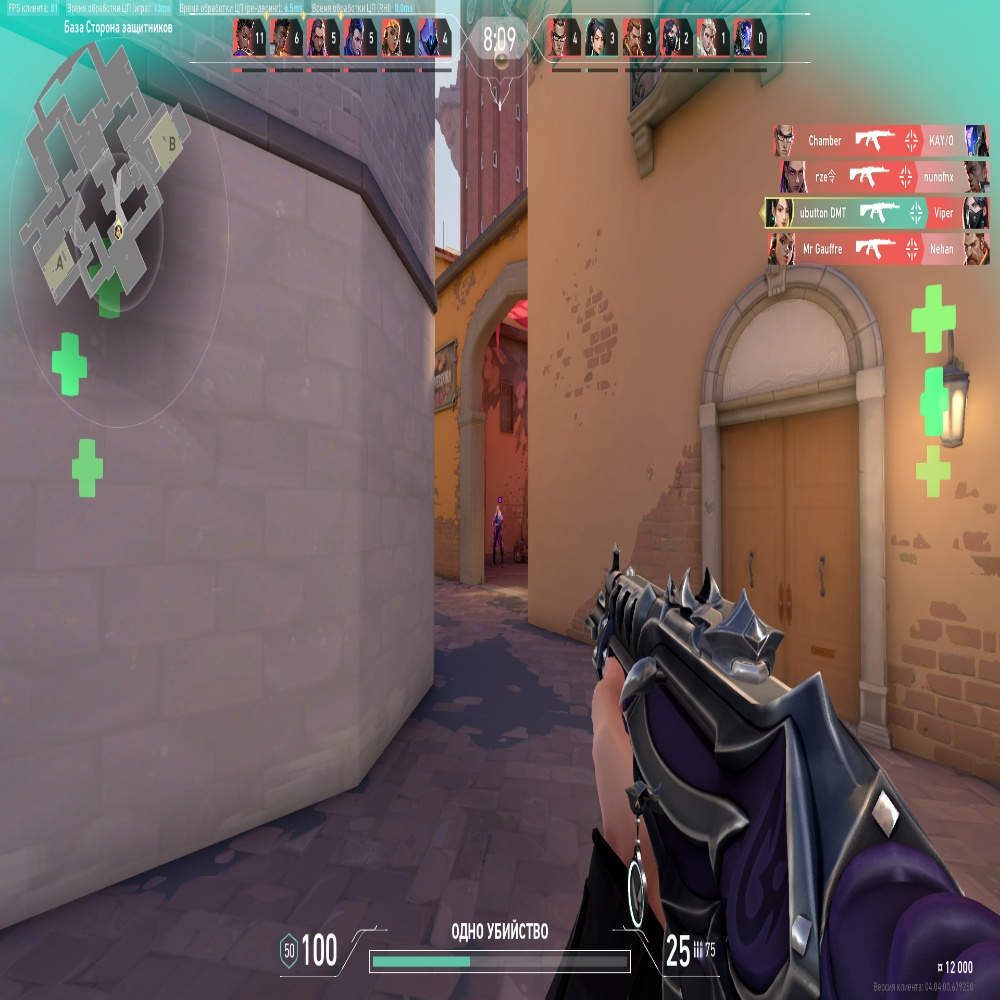body: (494, 517, 502, 535)
head: (496, 506, 500, 514)
